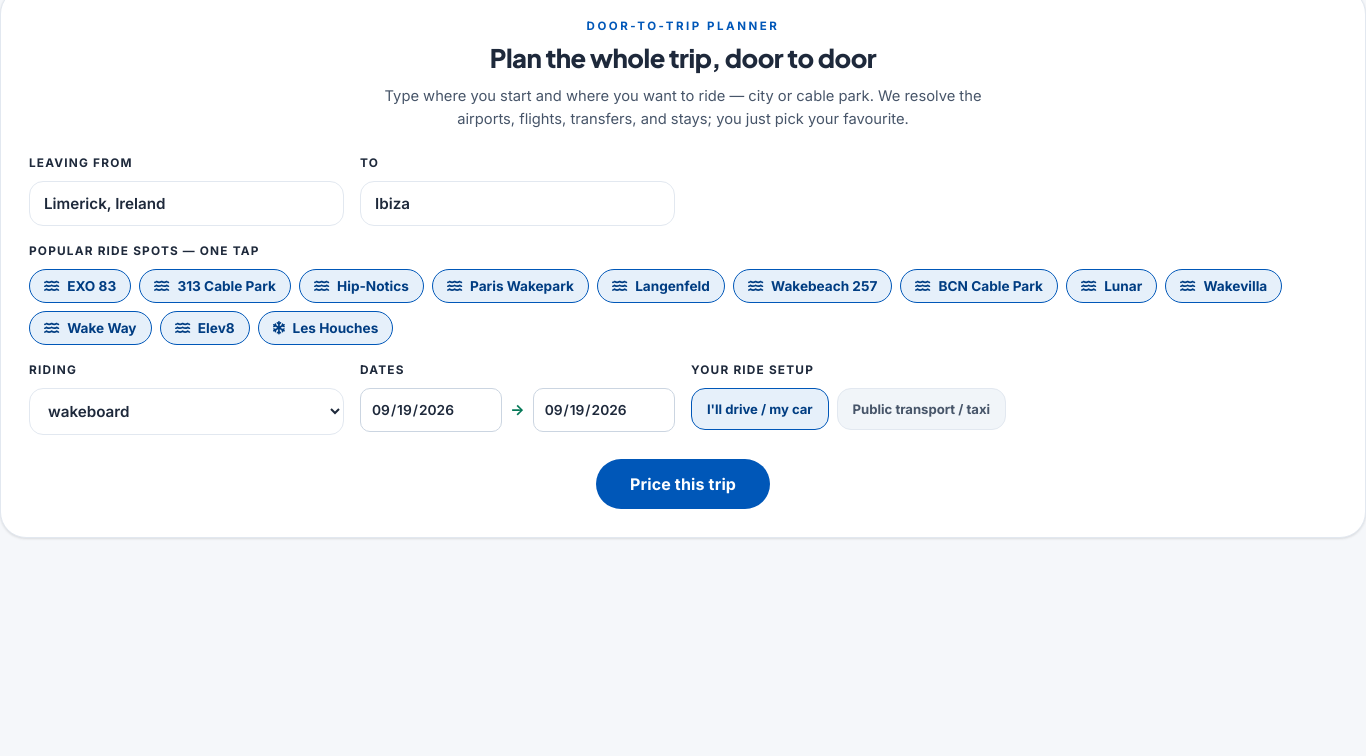
it: TripExploreWrapper › posts backend-curated destinations like Ibiza without an arrivalAirport hint
Click the button "Price this trip" at (683, 484), box [596, 459, 770, 509]
(page scrolled)
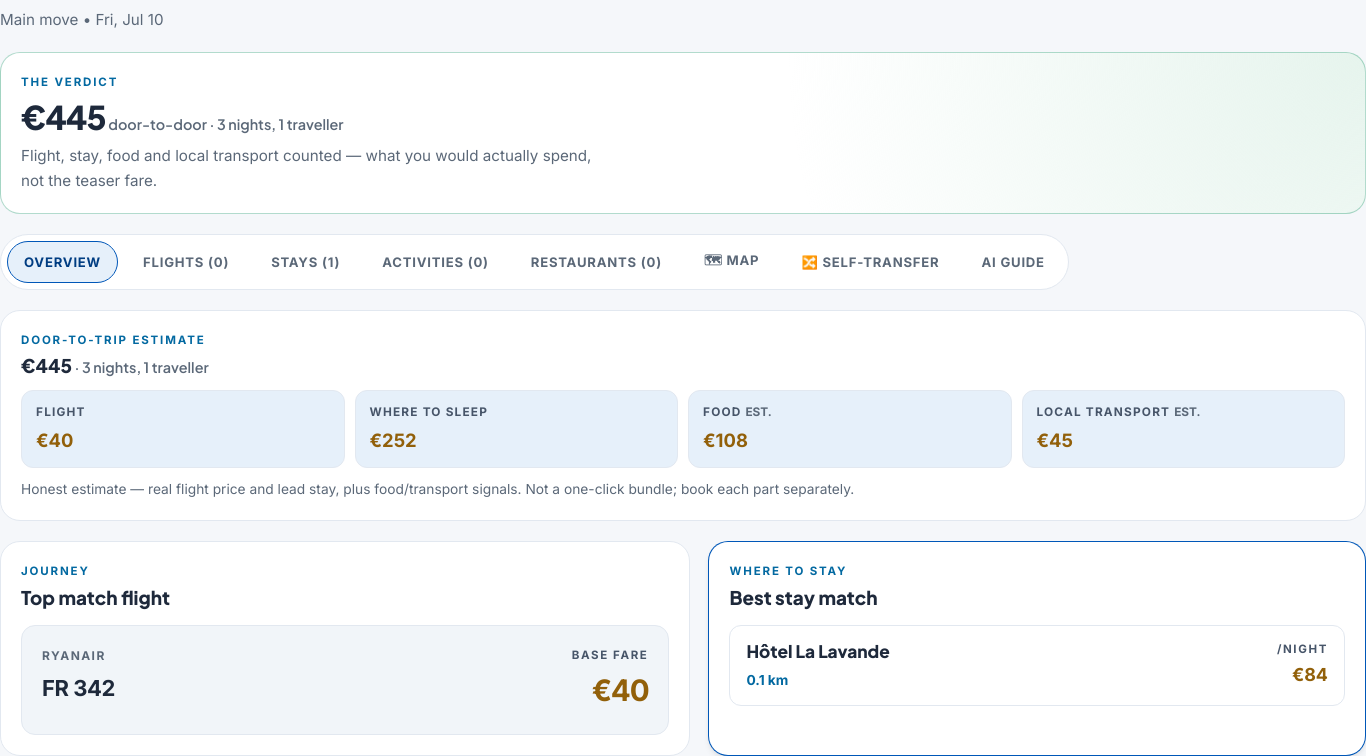
Check: the heading "Hôtel La Lavande" is shown, box [746, 640, 890, 663]
